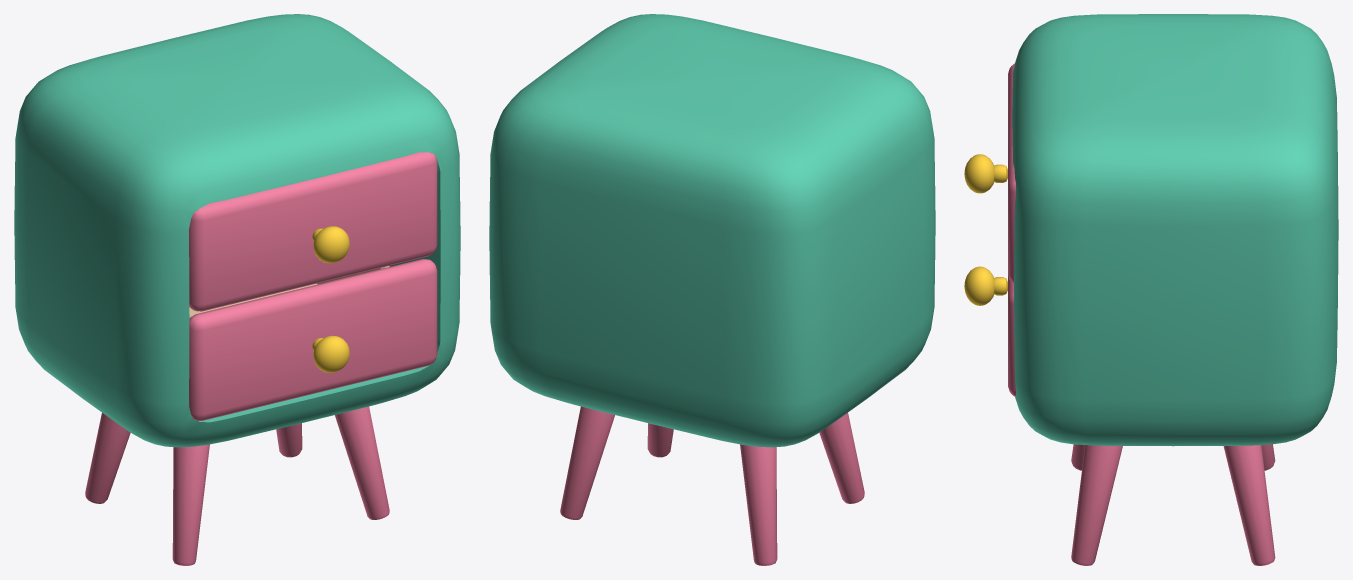
The model's file is criado_retro_verde.glb.
3 renders of one model, left to right at view 1: azimuth 30°, elevation 25°; view 2: azimuth 150°, elevation 25°; view 3: azimuth 270°, elevation 25°, orthographic. The views are drawn at different scales.
Parts seen in each view (by area): view 1: criado_retro_verde, gaveta_1, gaveta_2; view 2: criado_retro_verde; view 3: criado_retro_verde, gaveta_2, gaveta_1.
Boxes of the visible parts, x1=… form: criado_retro_verde: x1=14, y1=14, x2=460, y2=565; gaveta_1: x1=189, y1=259, x2=437, y2=420; gaveta_2: x1=189, y1=152, x2=437, y2=311; criado_retro_verde: x1=489, y1=14, x2=935, y2=565; criado_retro_verde: x1=1012, y1=14, x2=1338, y2=565; gaveta_2: x1=964, y1=63, x2=1015, y2=283; gaveta_1: x1=964, y1=266, x2=1015, y2=396.
Size of the model in its own units: 0.48 by 0.5922 by 0.4526.
1 material, 1 textured.
